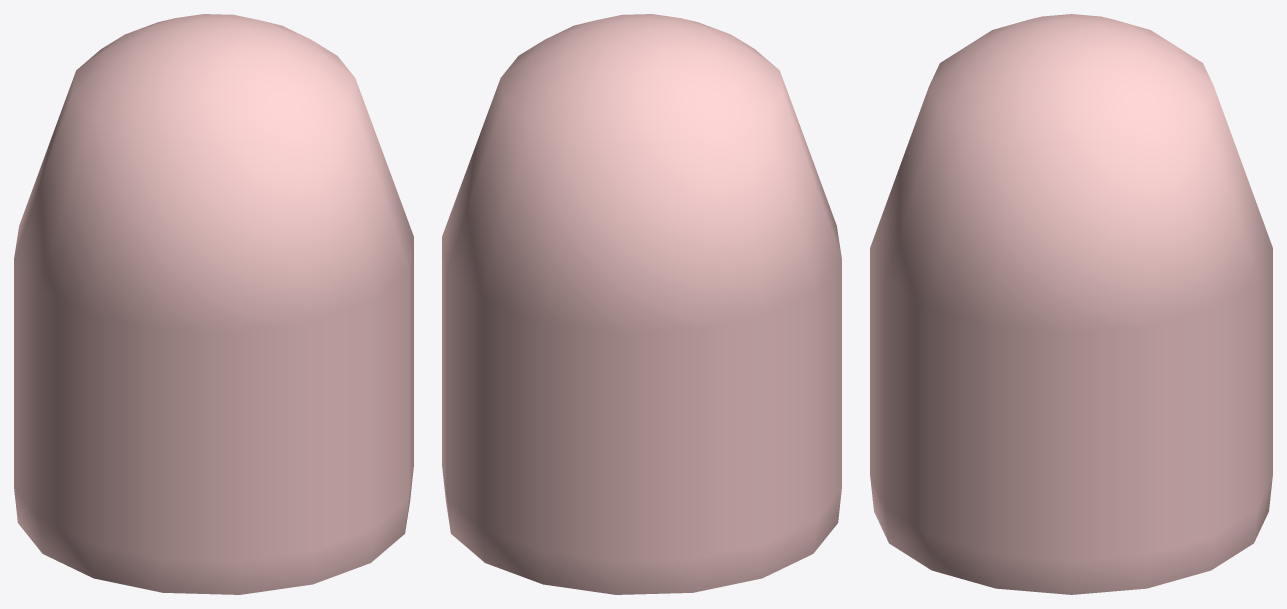
Rendered from mitochondrion.glb.
3 renders of one model, left to right at view 1: azimuth 30°, elevation 25°; view 2: azimuth 150°, elevation 25°; view 3: azimuth 270°, elevation 25°, orthographic.
Parts seen in each view (by area): view 1: mitochondrion-node; view 2: mitochondrion-node; view 3: mitochondrion-node.
Part boxes in pixels (x1,y1,x2,y2): mitochondrion-node: (14, 14, 413, 594); mitochondrion-node: (442, 14, 841, 594); mitochondrion-node: (870, 14, 1272, 594).
Bounding box in the file's own units: 1.4 × 1.84 × 1.4.
